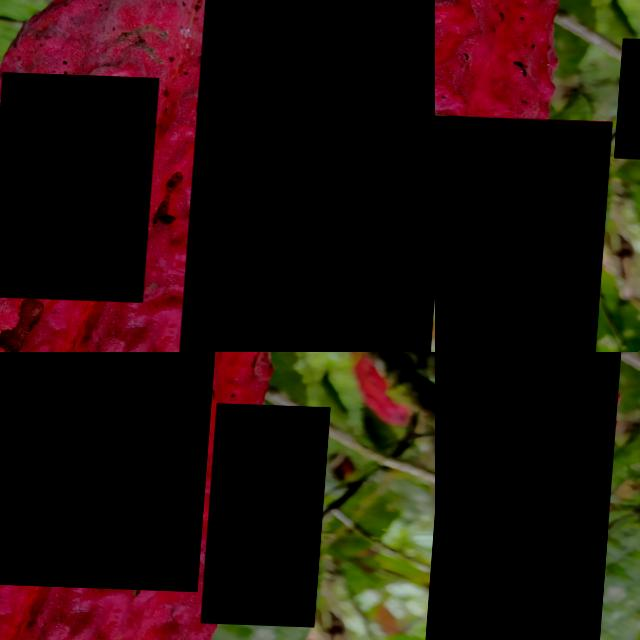Monilia: (0, 71, 161, 300)
Sana: (184, 0, 435, 352), (435, 352, 633, 640), (0, 352, 223, 588), (435, 111, 617, 352), (207, 400, 333, 623), (619, 34, 640, 155)
